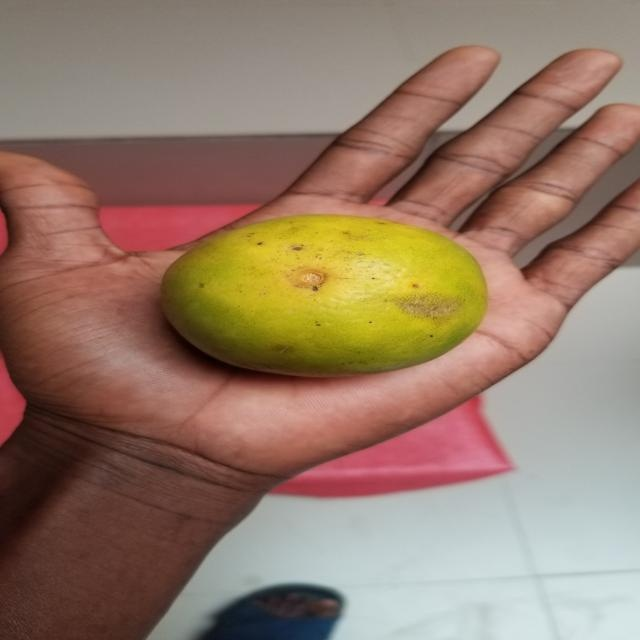agrume: (140, 205, 493, 381)
